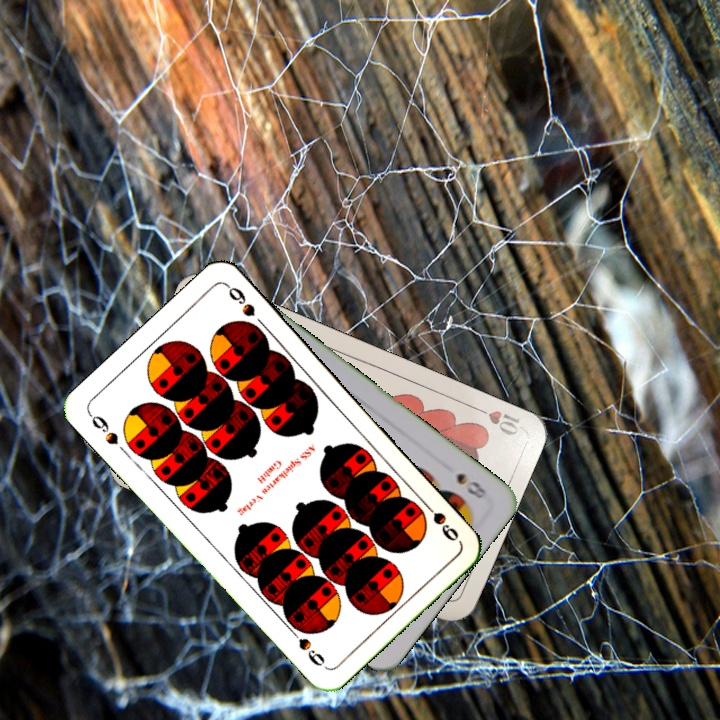H10: (468, 400, 523, 438)
S8: (452, 468, 490, 501)
S9: (417, 496, 461, 544), (84, 409, 121, 448)
